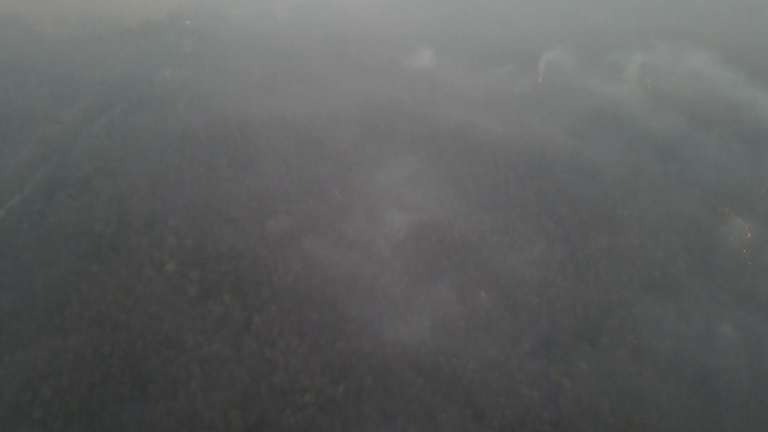fire: (717, 206, 761, 268)
smoke: (623, 43, 765, 118), (532, 46, 602, 92), (401, 40, 442, 84)
